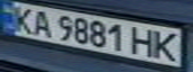1: (106, 21, 130, 52)
8: (87, 18, 109, 48), (69, 16, 90, 46)
9: (51, 12, 75, 42)
A: (27, 8, 57, 38)
H: (127, 25, 160, 57)
K: (151, 29, 184, 62), (6, 3, 39, 34)
